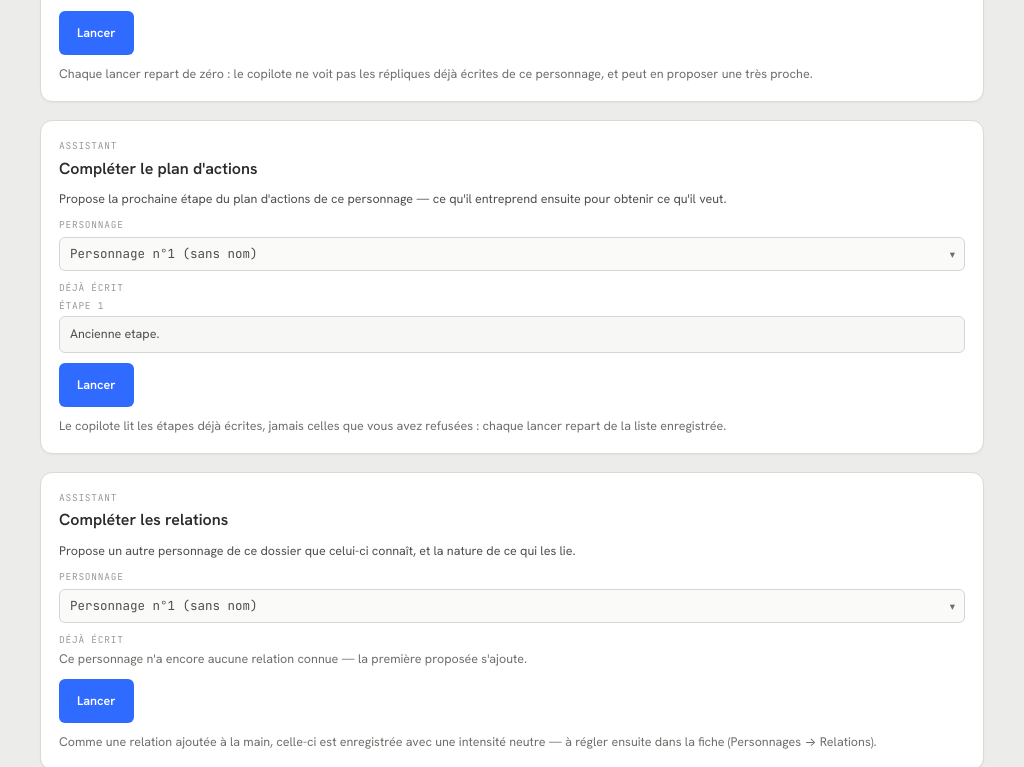
Test: planActions - le gel du bloc DEJA ECRIT (regression BUG-097) › le bloc reste fige sur la valeur du lancement, meme apres une acceptation qui ecrit dans le dossier
(page scrolled)
expect the text "Ancienne etape." is shown: met, box [59,316,965,352]
What coordinates should you click on to do the following:
click the button "Lancer" below "Ancienne etape."
I would click on:
 (96, 385)
Its box is [59,363,134,407].
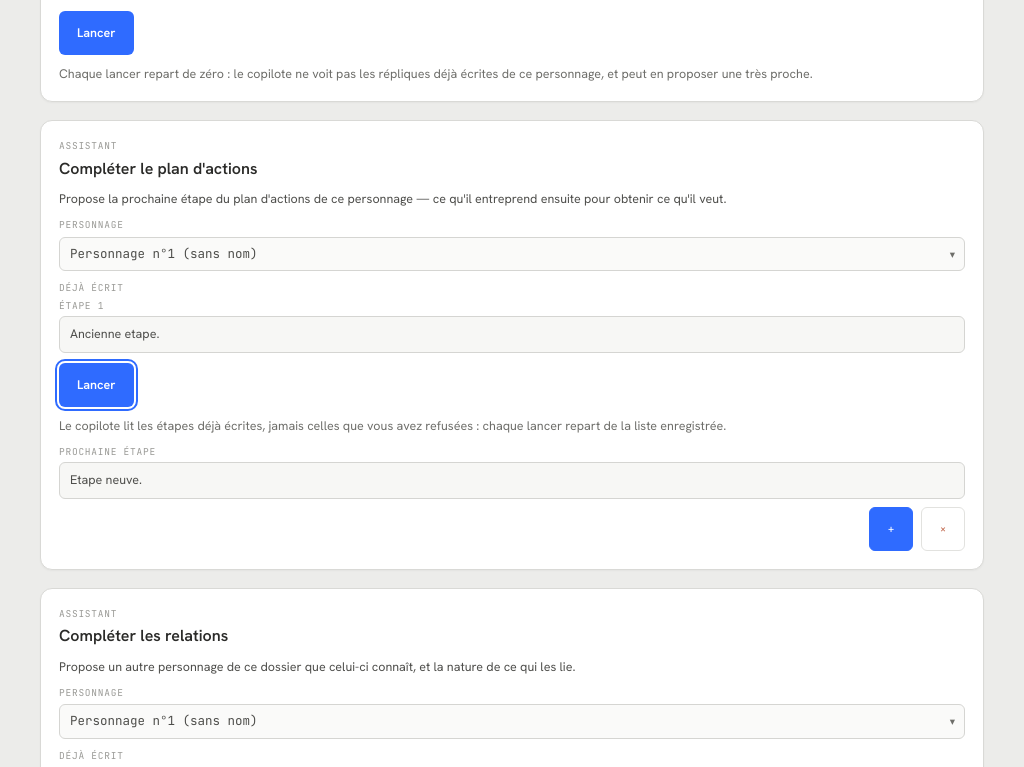
expect the button named "Accepter la proposition" is shown: met
What coordinates should you click on to do the following:
click the button named "Accepter la proposition"
I would click on:
 (891, 529)
Its box is [869,507,913,551].
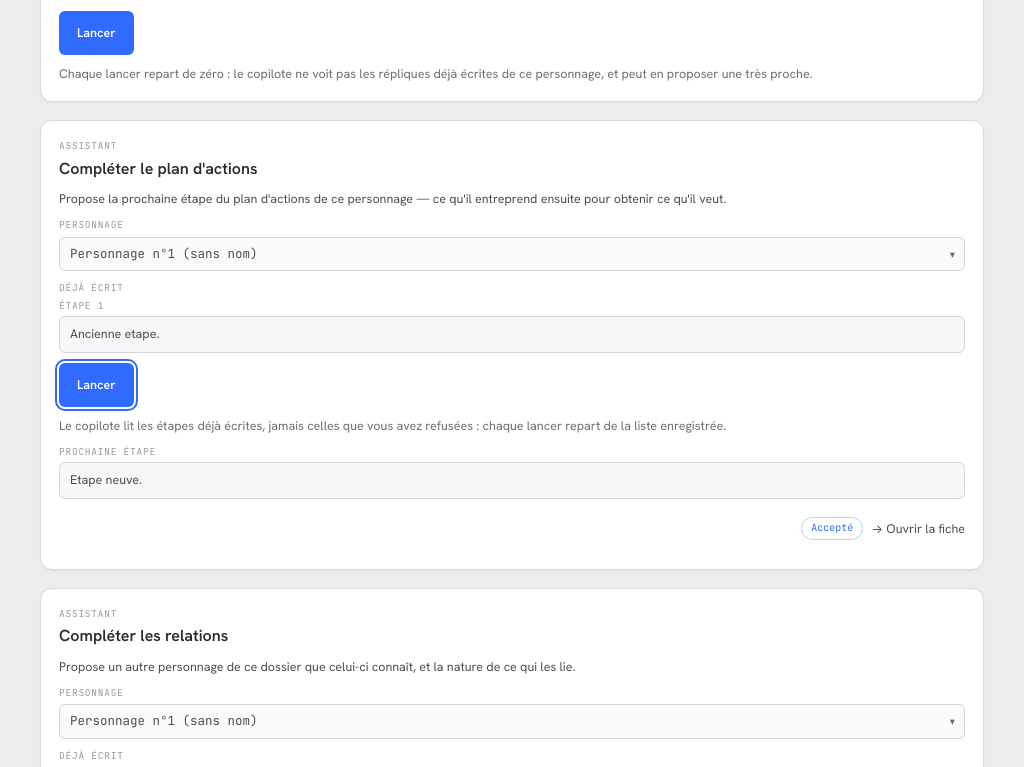
expect the text "Ancienne etape." is shown: met, box [59,316,965,352]
expect the text "Accepté" is shown: met, box [801,517,863,540]
